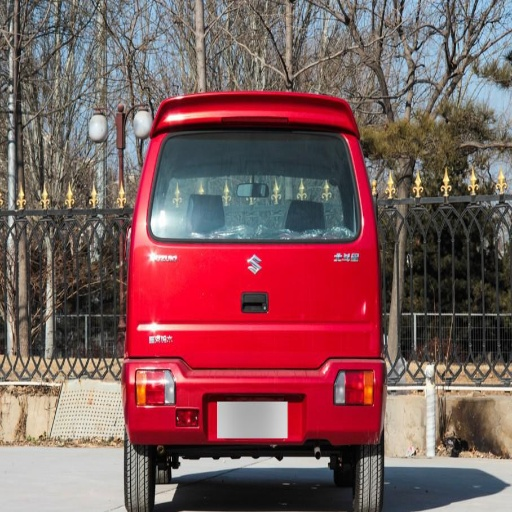back_bumper: (126, 360, 381, 441)
trunk: (134, 179, 377, 403)
